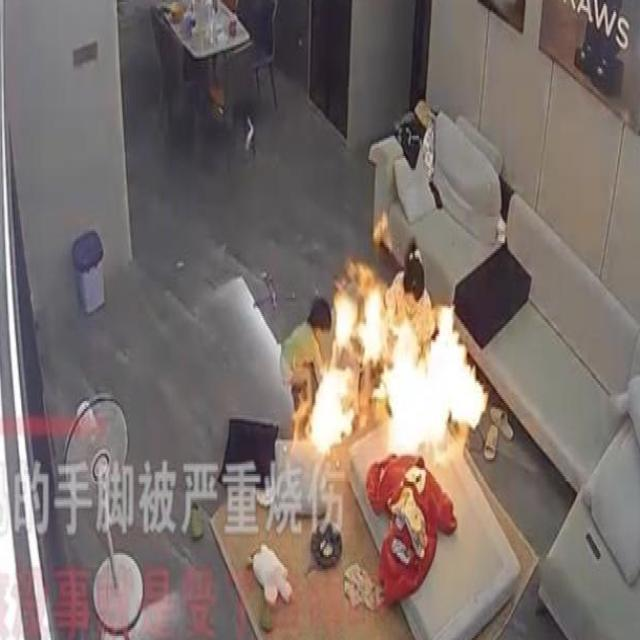smoke: (386, 301, 488, 458), (330, 264, 383, 366), (312, 359, 353, 458)
